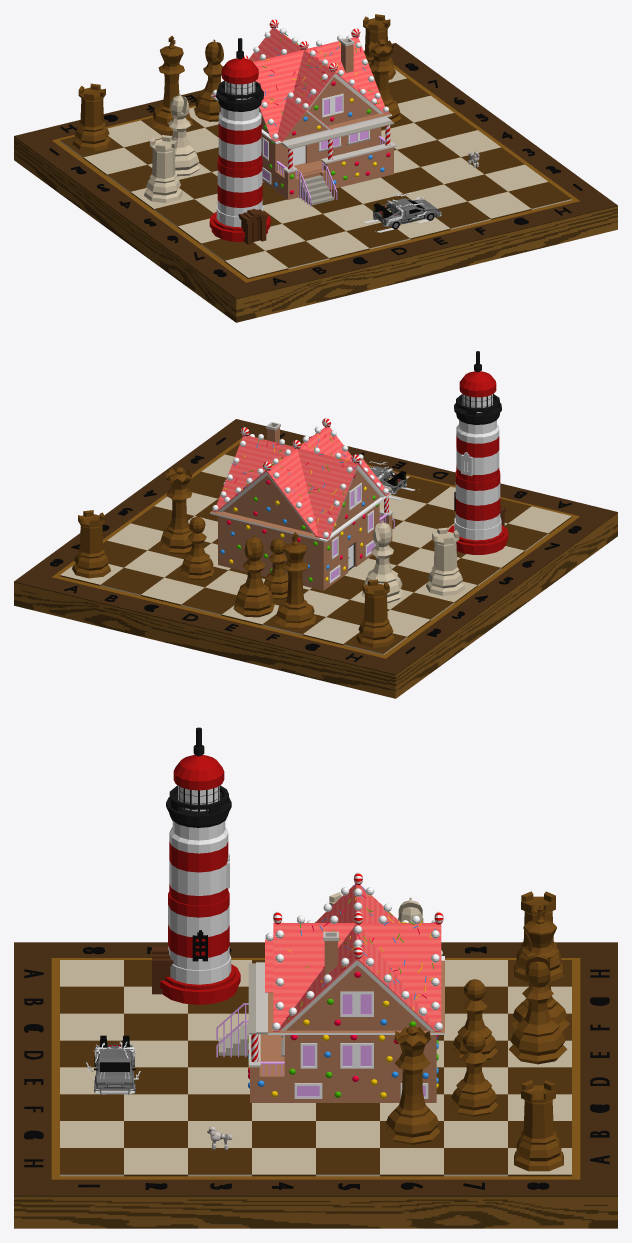
The picture shows the model from 3 angles, top to bottom: view 1: azimuth 30°, elevation 25°; view 2: azimuth 150°, elevation 25°; view 3: azimuth 270°, elevation 25°; orthographic projection. The views are drawn at different scales.
Visible parts, largest first — view 1: Cube.002, Cube.1203, OBJRANDOM_LIGHTHOUSE, VEHICLES_DELOREAN; view 2: Cube.002, Cube.1203, OBJRANDOM_LIGHTHOUSE, VEHICLES_DELOREAN; view 3: Cube.002, Cube.1203, OBJRANDOM_LIGHTHOUSE, VEHICLES_DELOREAN.
Part boxes in pixels (x1,y1,x2,y2): Cube.002: (14,14,617,322); Cube.1203: (211,19,396,206); OBJRANDOM_LIGHTHOUSE: (209,38,270,244); VEHICLES_DELOREAN: (360,193,441,232); Cube.002: (14,419,617,698); Cube.1203: (210,418,394,590); OBJRANDOM_LIGHTHOUSE: (447,351,508,554); VEHICLES_DELOREAN: (369,461,419,500); Cube.002: (14,891,617,1228); Cube.1203: (216,872,444,1102); OBJRANDOM_LIGHTHOUSE: (152,727,240,1004); VEHICLES_DELOREAN: (86,1035,140,1094).
Size of the model in its own units: 3981 by 2235 by 4012.
47 materials, 3 textured.
